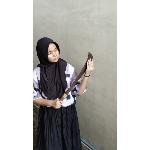Golok: (59, 51, 98, 103)
